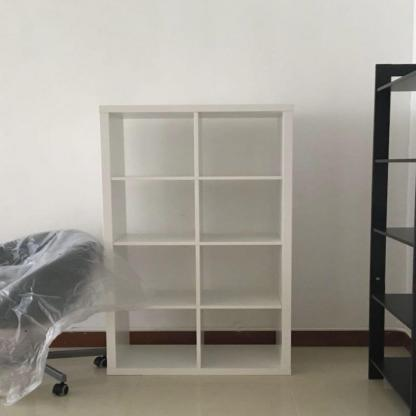lamp: (94, 105, 295, 377)
